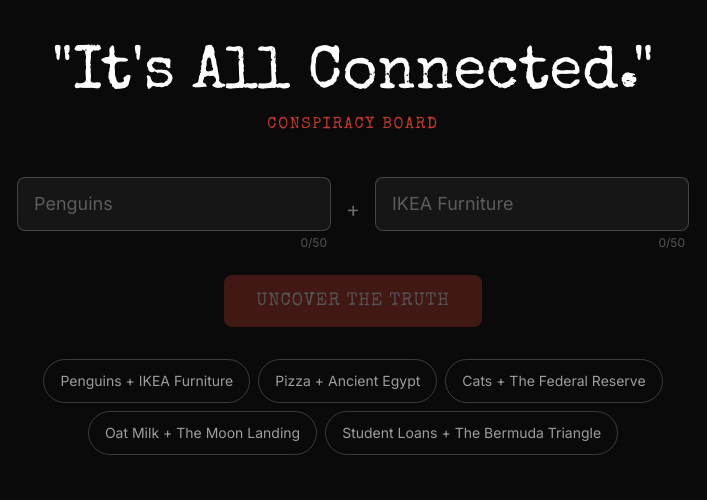
Test case: LandingScreen › shows error for blocked input
The width and height of the screenshot is (707, 500).
Type "hitler" into the field with test id "input-a" at (174,204), box [17,177,331,231]
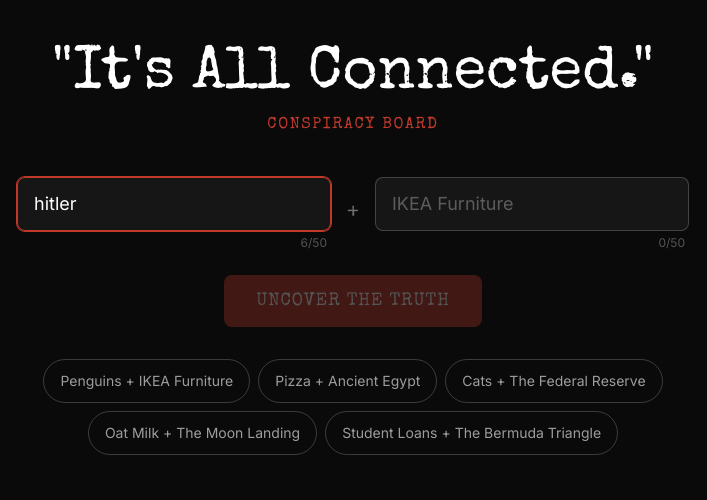
Type "pizza" into the field with test id "input-b" at (532,204), box [375,177,689,231]
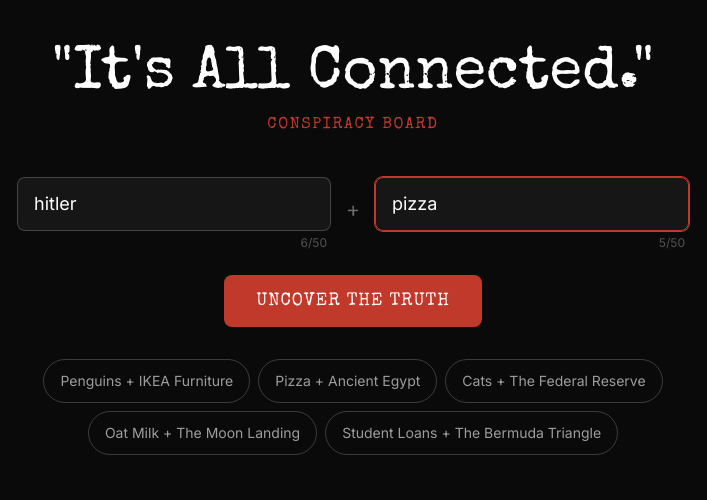
Click the button with test id "submit-button" at (353,301), box [224,275,482,327]
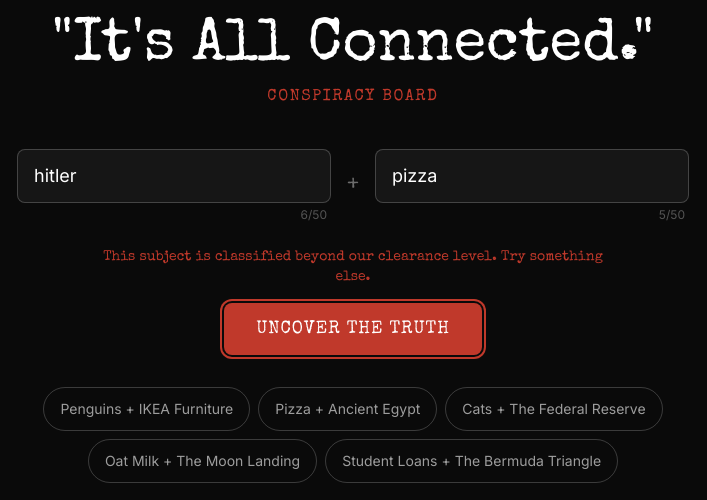
Expected: the message with test id "error-message" shows "classified beyond our clearance", [103,250,603,284]
